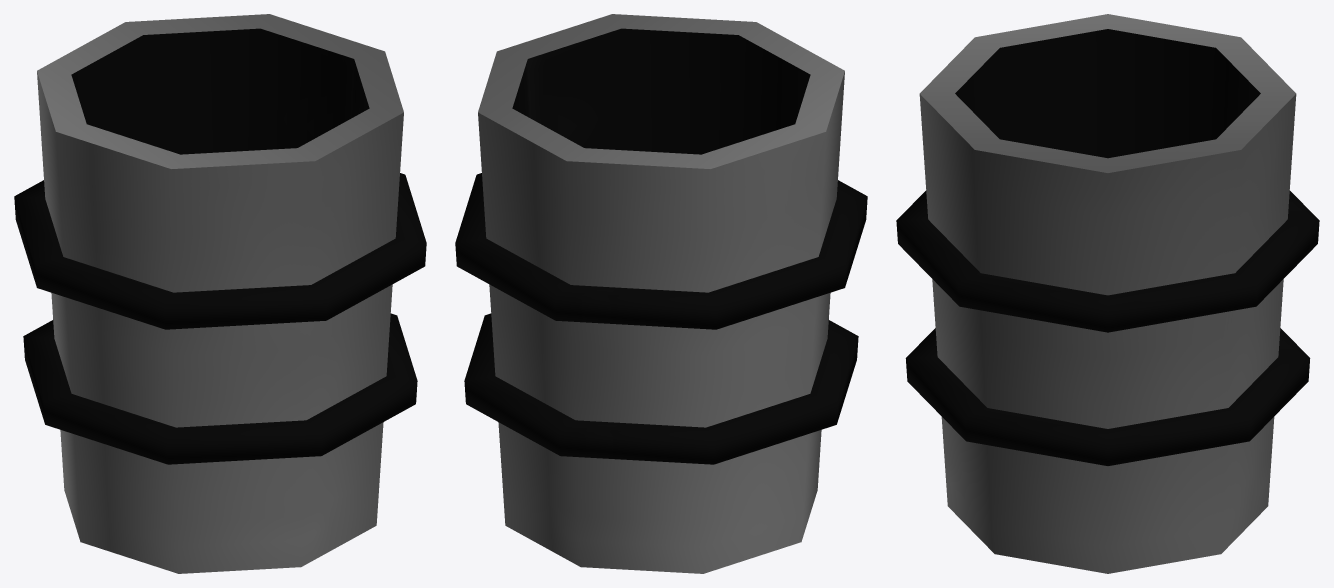
File: Rubbish_1.fbx
3 views of the same model, side by side, from view 1: azimuth 30°, elevation 25°; view 2: azimuth 150°, elevation 25°; view 3: azimuth 270°, elevation 25° (orthographic).
Parts seen in each view (by area): view 1: Rubbish_1; view 2: Rubbish_1; view 3: Rubbish_1.
Boxes of the visible parts, left/top/right/bottom form: Rubbish_1: left=14, top=14, right=426, bottom=573; Rubbish_1: left=455, top=14, right=867, bottom=573; Rubbish_1: left=896, top=14, right=1319, bottom=573.
Bounding box in the file's own units: 66.52 × 71.57 × 66.52.
Materials: 1 (1 with a texture image).
